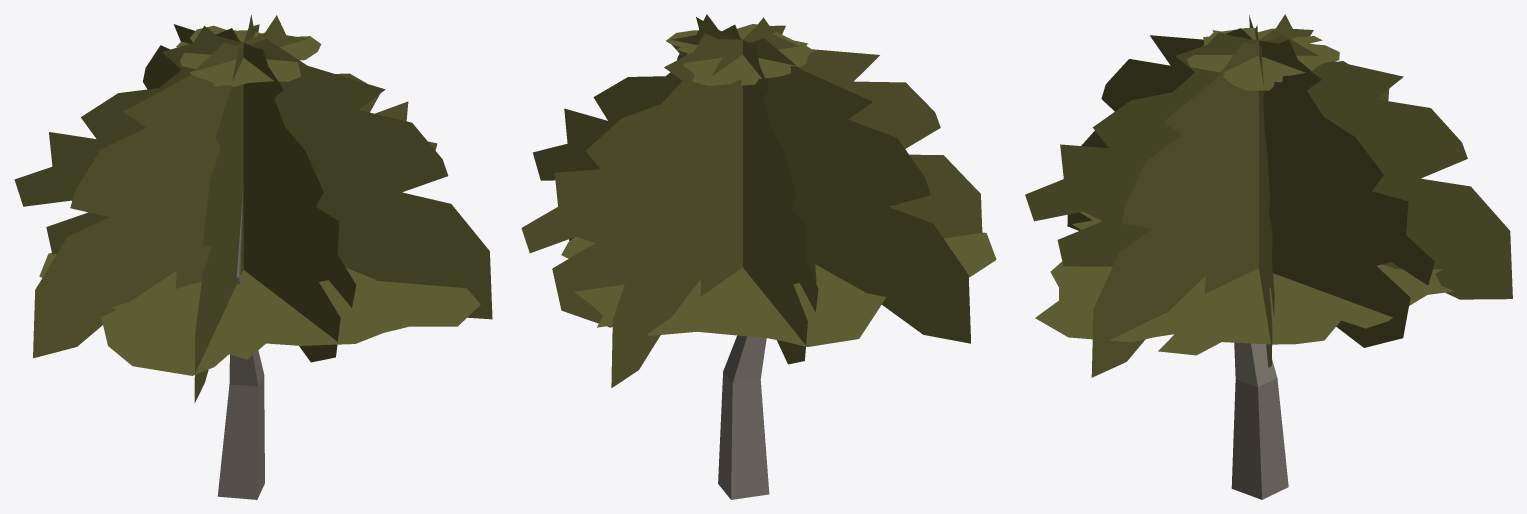
The model's file is Tree7.fbx.
3 views of the same model, side by side, from view 1: azimuth 30°, elevation 25°; view 2: azimuth 150°, elevation 25°; view 3: azimuth 270°, elevation 25° (orthographic).
Parts seen in each view (by area): view 1: Flat_half_tree.007; view 2: Flat_half_tree.007; view 3: Flat_half_tree.007.
Part boxes in pixels (x1,y1,x2,y2): Flat_half_tree.007: (14, 15, 492, 499); Flat_half_tree.007: (521, 14, 996, 499); Flat_half_tree.007: (1025, 14, 1512, 499).
Bounding box in the file's own units: 3.47 × 3.67 × 3.48.
